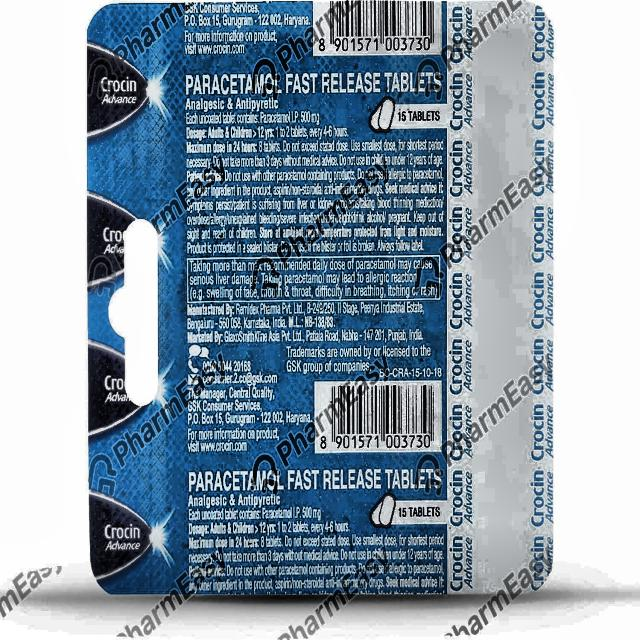Crocin: (94, 11, 552, 596)
